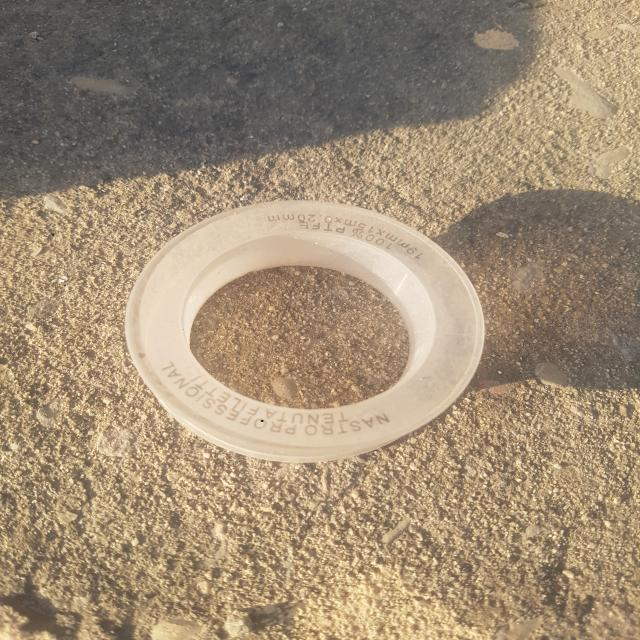general: (123, 198, 486, 463)
